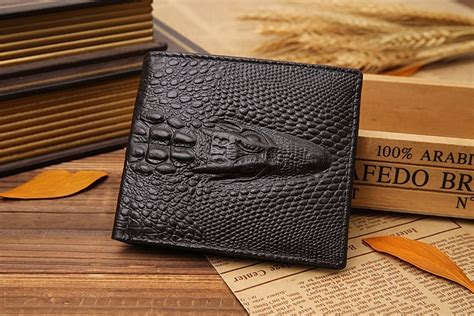cuero: (112, 49, 364, 272)
